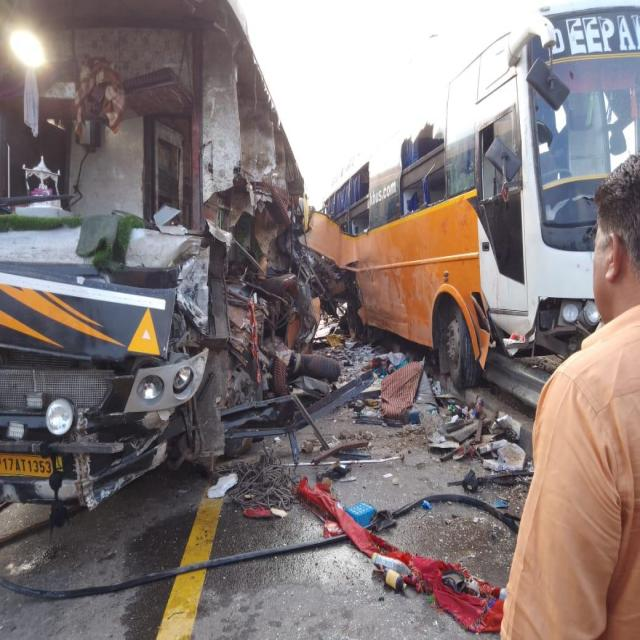accident: (0, 0, 342, 522), (305, 5, 640, 388)
